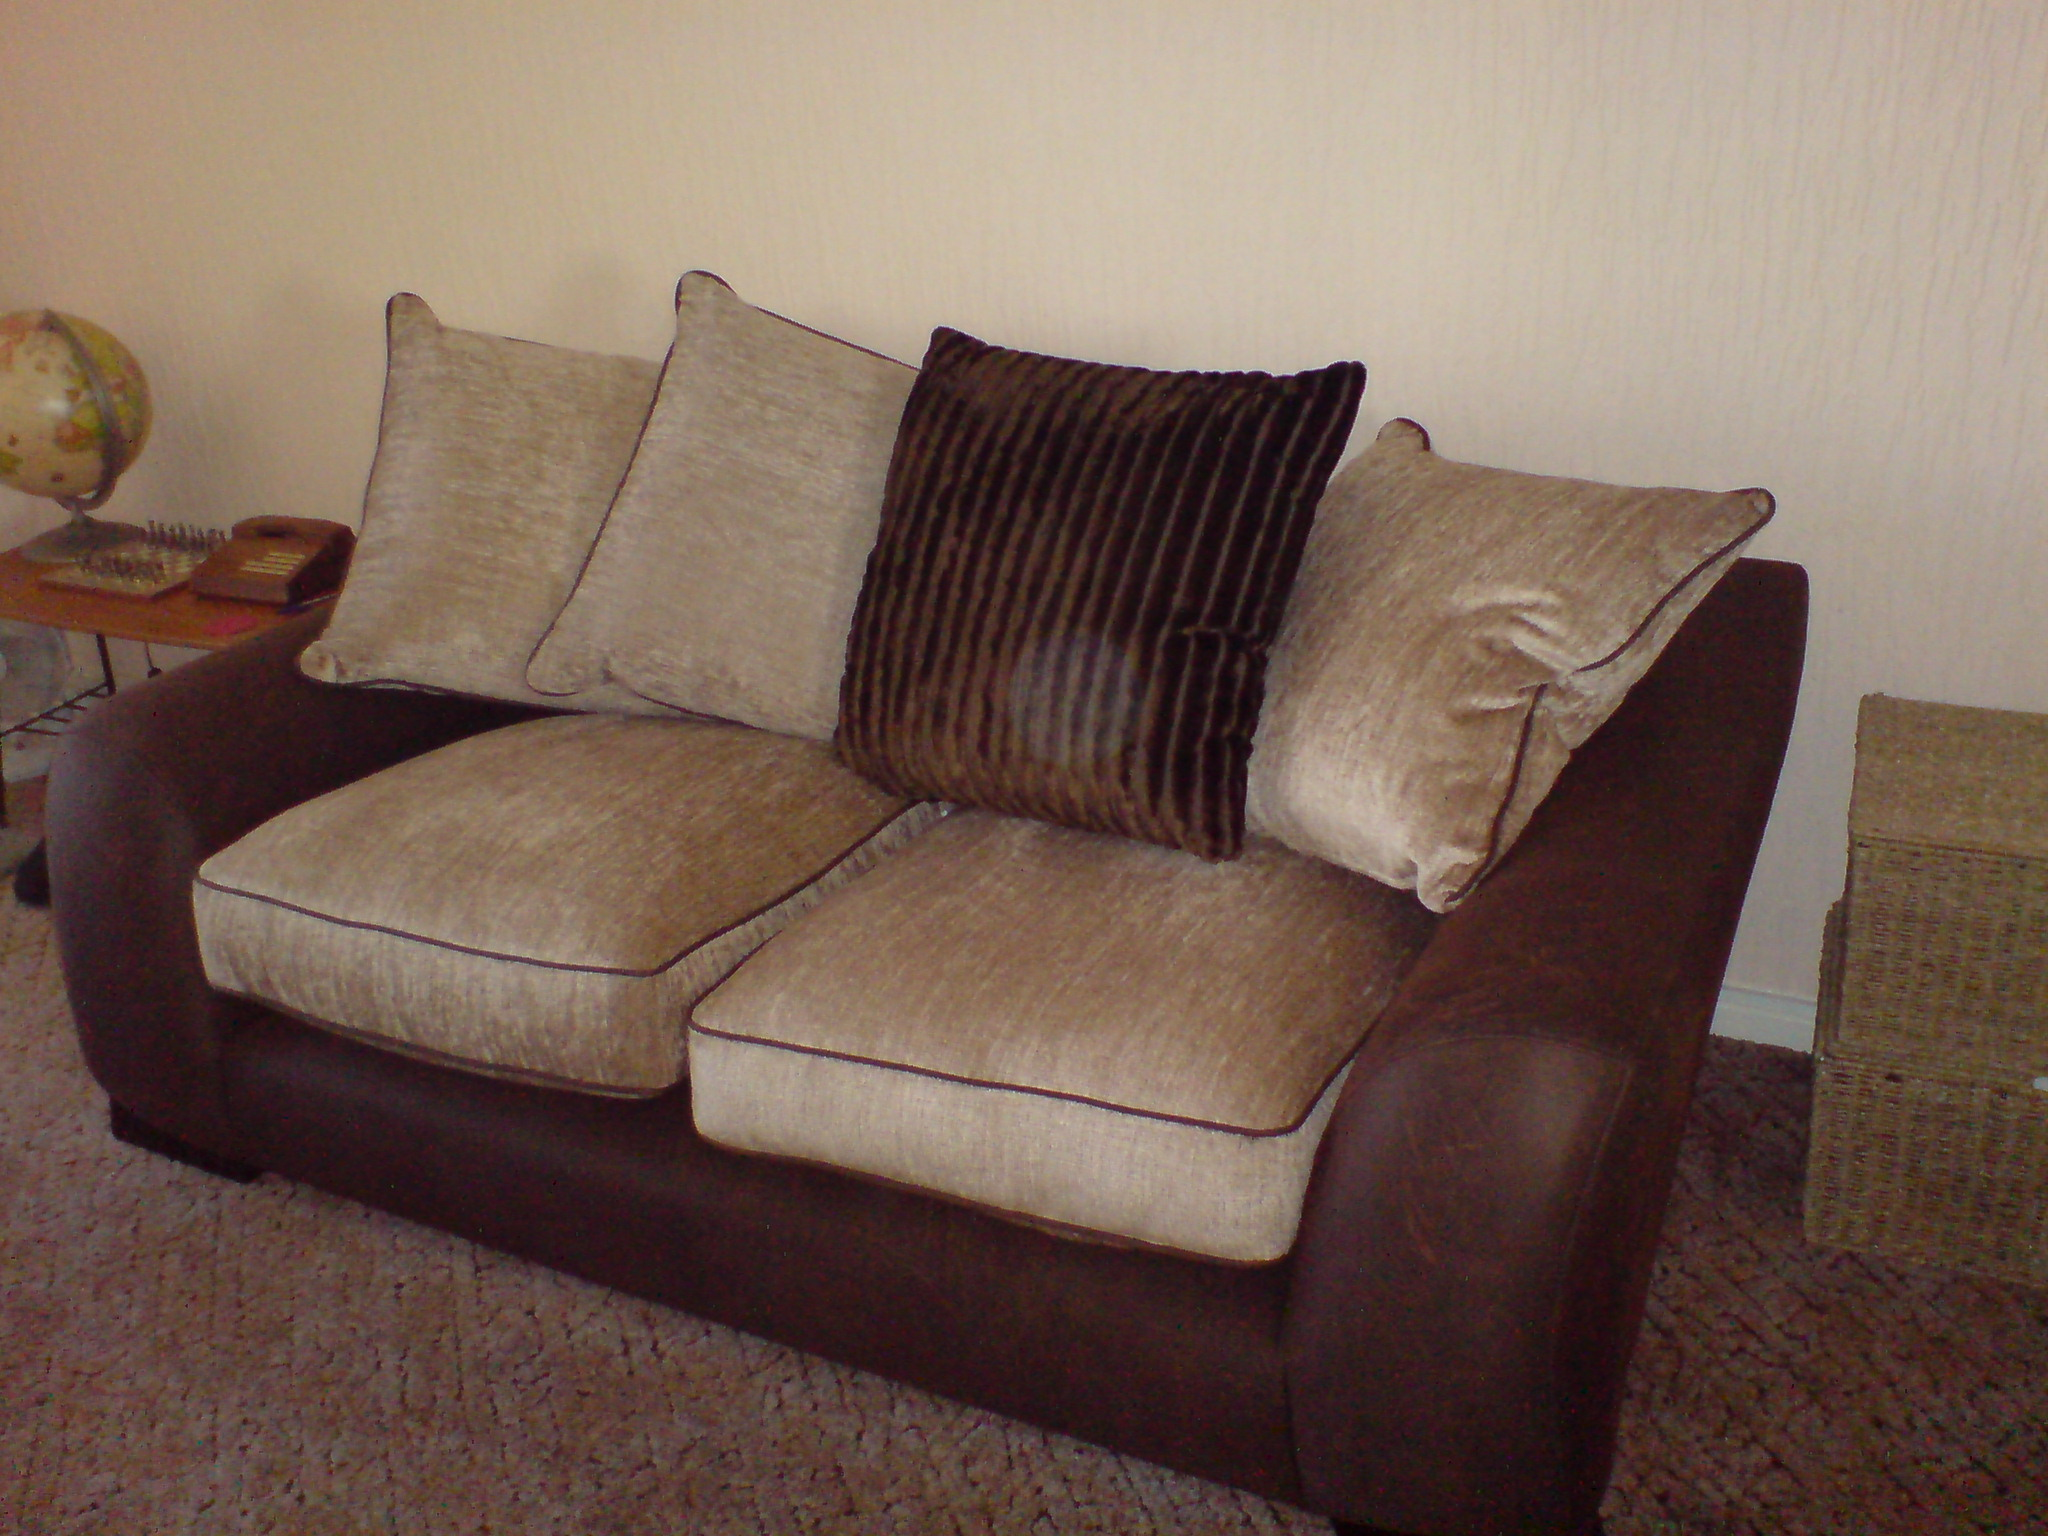sofa: (23, 373, 1838, 1468)
